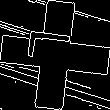L_E: (28, 37, 82, 73)
